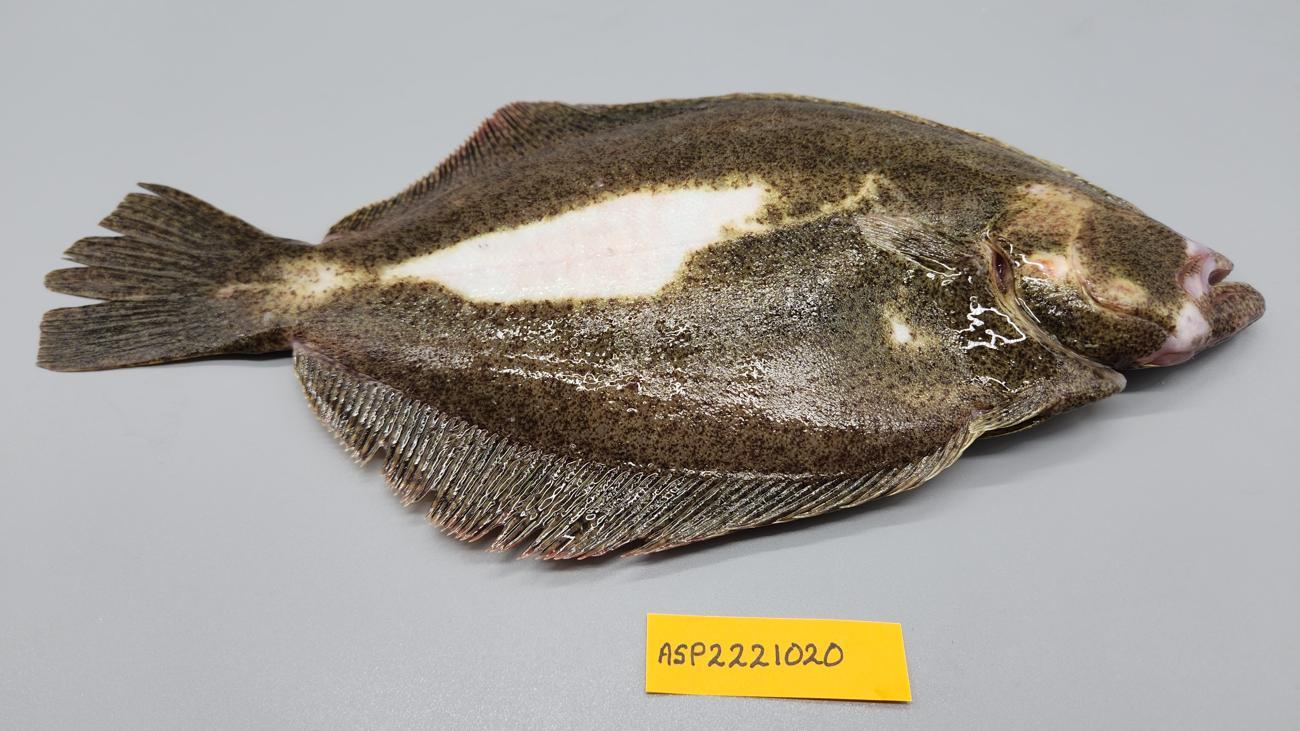SPDYH: (189, 184, 993, 478)
SPFCH: (39, 182, 223, 372)
SPOUY: (31, 82, 1269, 575)
